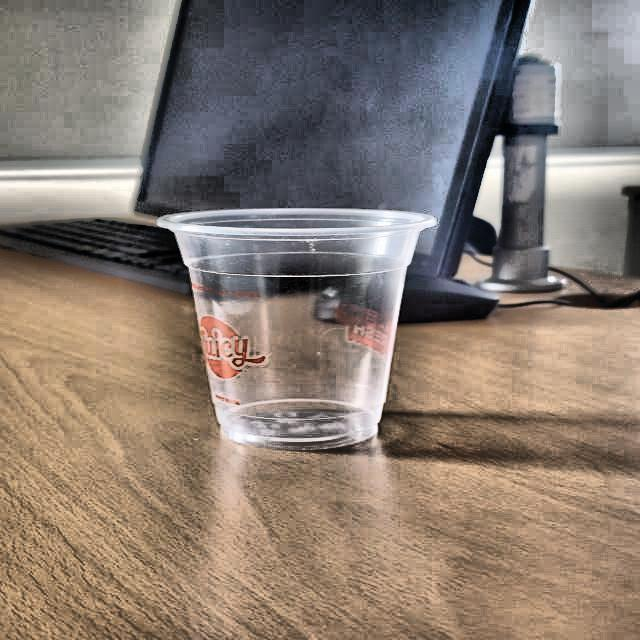plastic cup: (152, 208, 438, 450)
